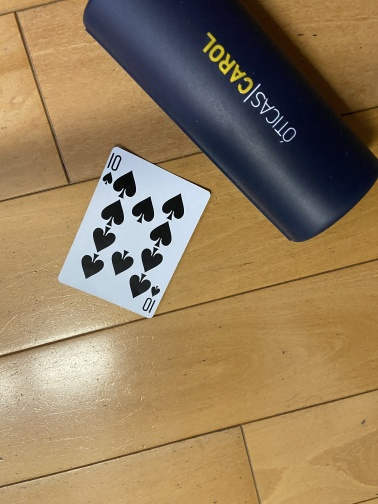ten: (56, 144, 214, 320)
